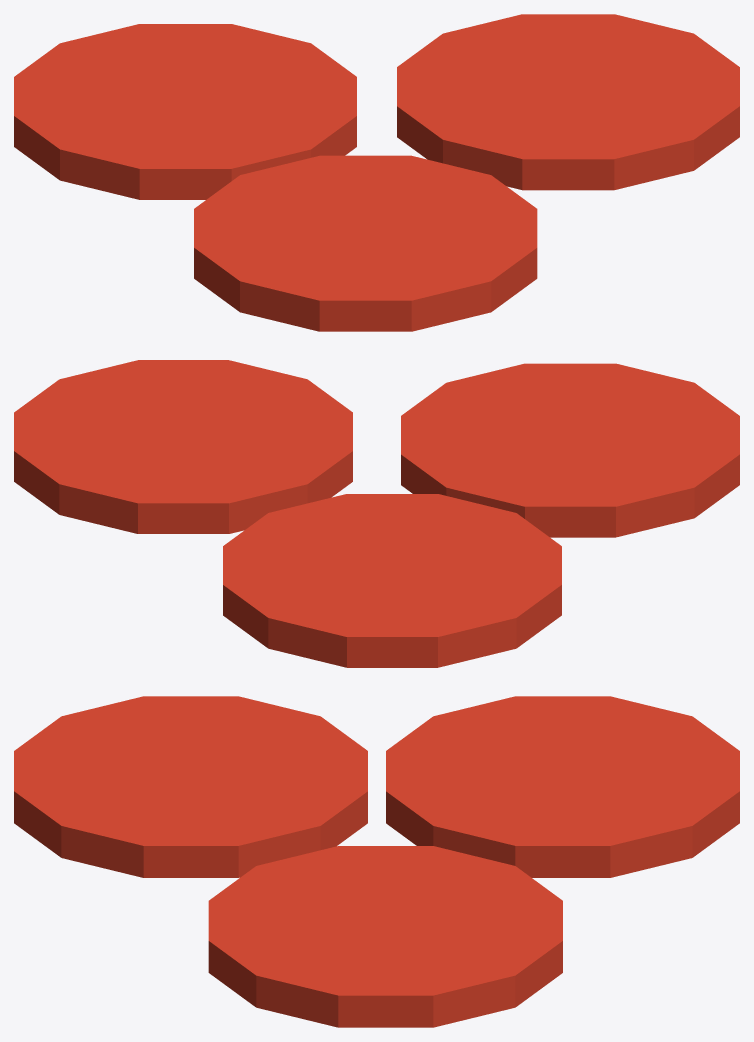
File: Tomato.glb
3 renders of one model, top to bottom at view 1: azimuth 30°, elevation 25°; view 2: azimuth 150°, elevation 25°; view 3: azimuth 270°, elevation 25°, orthographic. The views are drawn at different scales.
Parts seen in each view (by area): view 1: Tomato (×3); view 2: Tomato (×3); view 3: Tomato (×3).
Part boxes in pixels (<box>): Tomato (×3): <box>14,14,739,331</box>; Tomato (×3): <box>14,360,739,667</box>; Tomato (×3): <box>14,696,739,1027</box>.
Size of the model in its own units: 0.25 by 0.0125 by 0.2562.
Materials: 1 (1 with a texture image).
